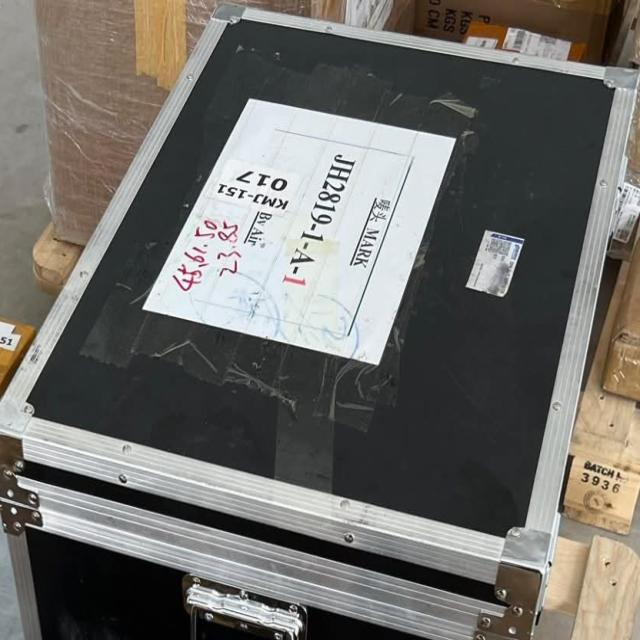export_mark_label: (155, 124, 433, 373)
wooden_box: (1, 9, 631, 640)
